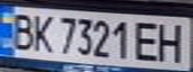1: (109, 17, 133, 61)
2: (90, 16, 112, 60)
3: (72, 15, 93, 57)
7: (54, 13, 78, 55)
B: (6, 10, 39, 52)
E: (130, 18, 163, 62)
H: (154, 19, 190, 64)
K: (30, 11, 57, 53)
